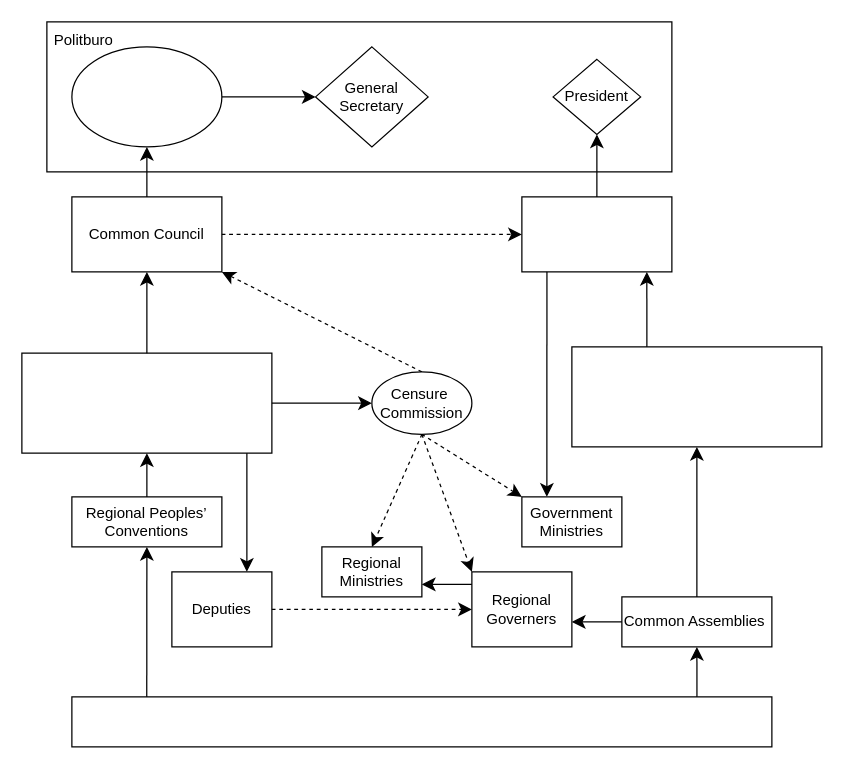
Image size: 844x769. Some labels were removed from this diagram. Each missing label, with the centre of its shape:
"Administrative Assembly" goes at (596,234).
"Common Affairs Council" goes at (146,96).
"Grand Assembly" goes at (696,396).
"Peoples’ Plenary General Convention" goes at (146,402).
"Voters" goes at (421,721).
